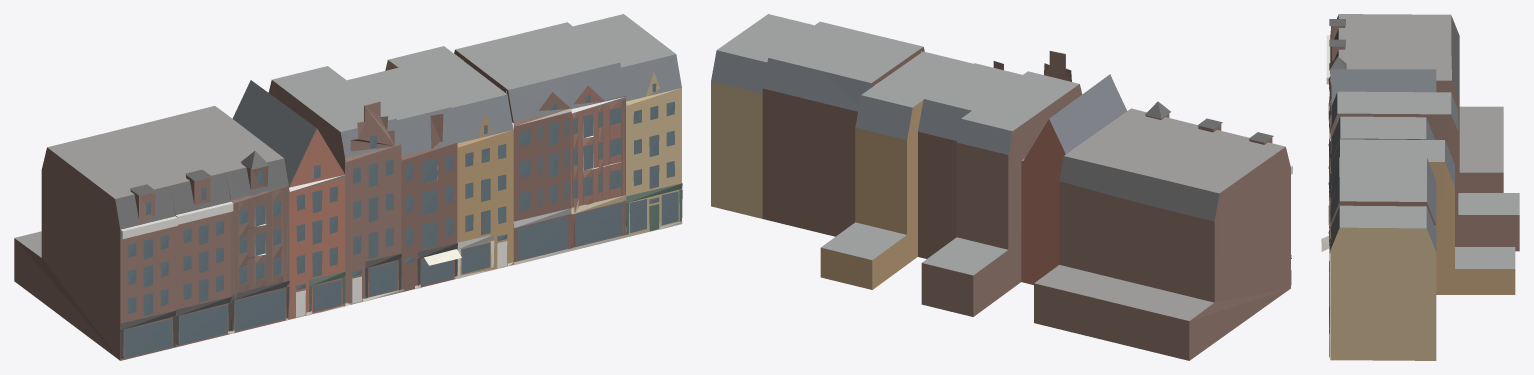
The model's file is chunk-face-bilder-236022-167243.lod2.glb.
3 views of the same model, side by side, from view 1: azimuth 30°, elevation 25°; view 2: azimuth 150°, elevation 25°; view 3: azimuth 270°, elevation 25° (orthographic). The views are drawn at different scales.
Visible parts, largest first — view 1: lod2; view 2: lod2; view 3: lod2.
Part boxes in pixels (x1=…): lod2: x1=14, y1=14, x2=682, y2=360; lod2: x1=711, y1=14, x2=1292, y2=360; lod2: x1=1321, y1=14, x2=1519, y2=360.
Size of the model in its own units: 59.44 by 19.66 by 22.58.
